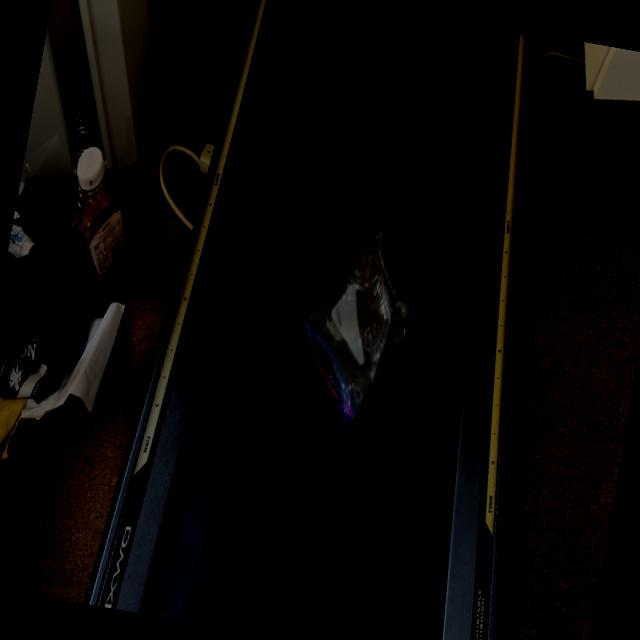Recycle: (264, 200, 462, 489)
